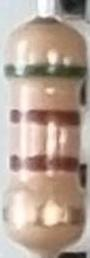Brown: (10, 107, 84, 127), (10, 154, 80, 175)
Green: (3, 63, 89, 82)
Side-Silver: (2, 201, 85, 230)
